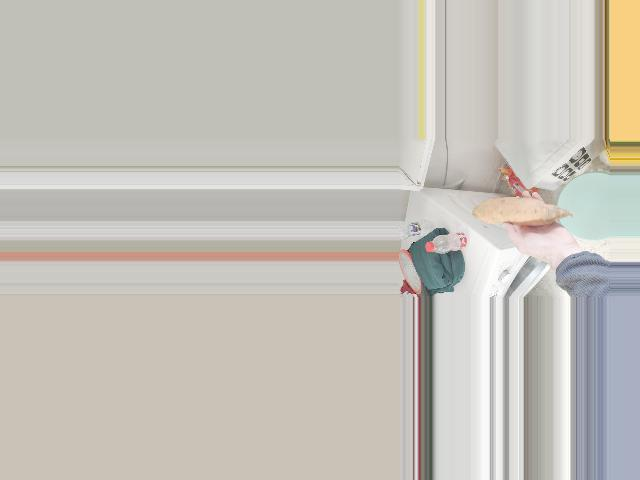sweet_potato: (484, 201, 552, 232)
